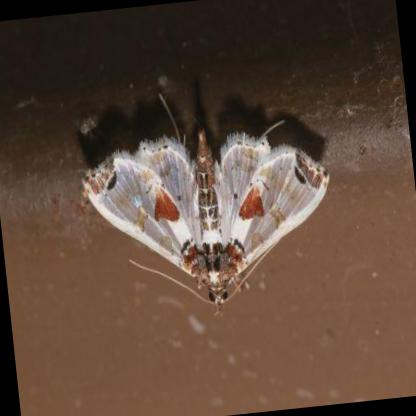leucinodes: (84, 134, 330, 308)
